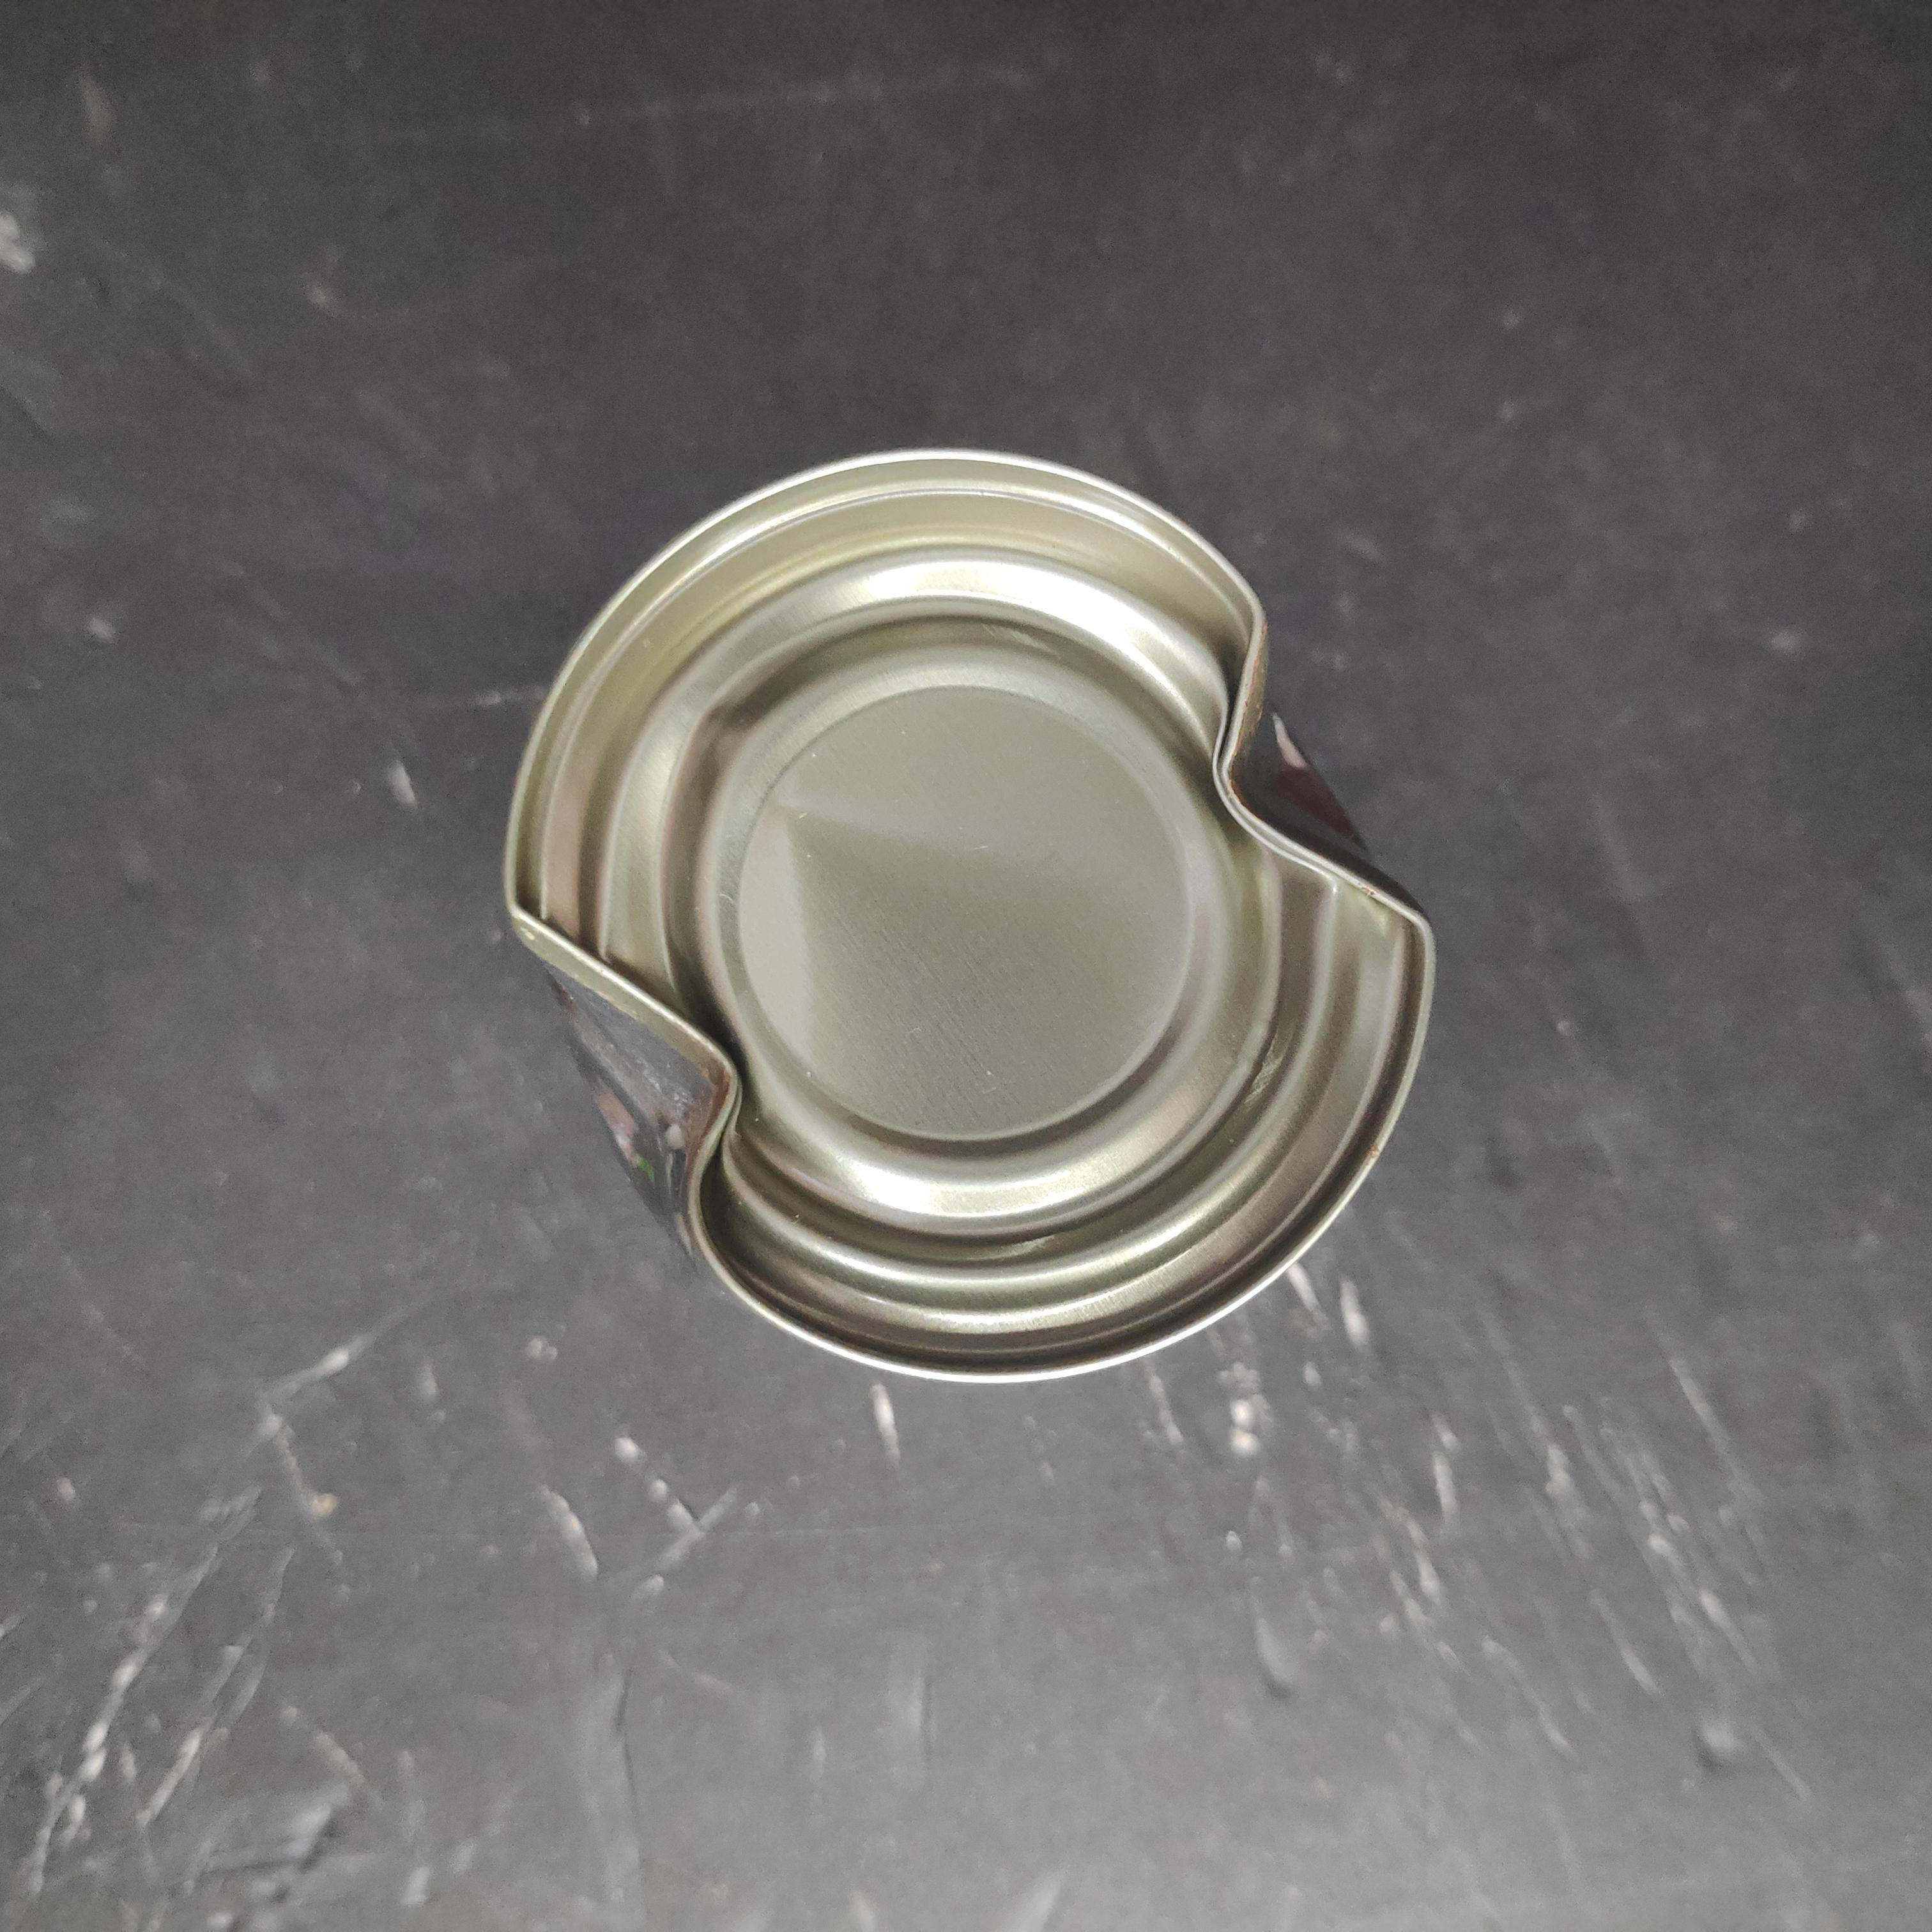Critical Defect: (541, 492, 1495, 1454)
